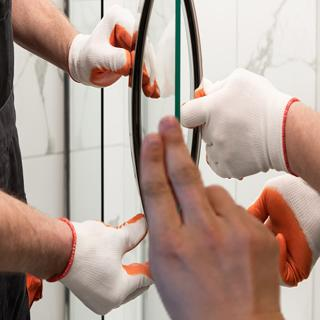DHAVE: (127, 111, 289, 320)
